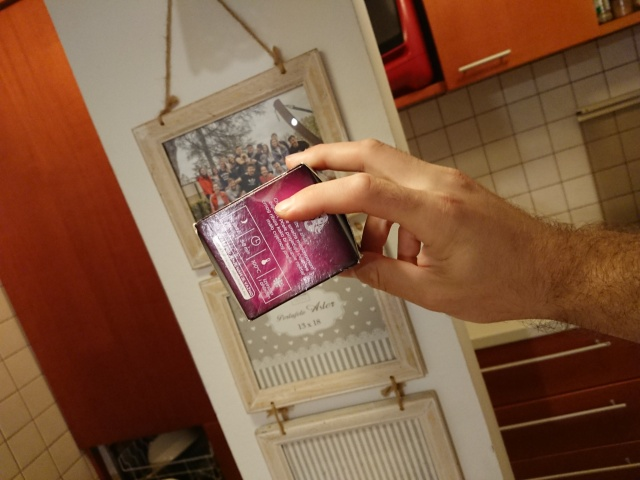Franck Black Currant Tea 60g: (190, 155, 366, 324)
